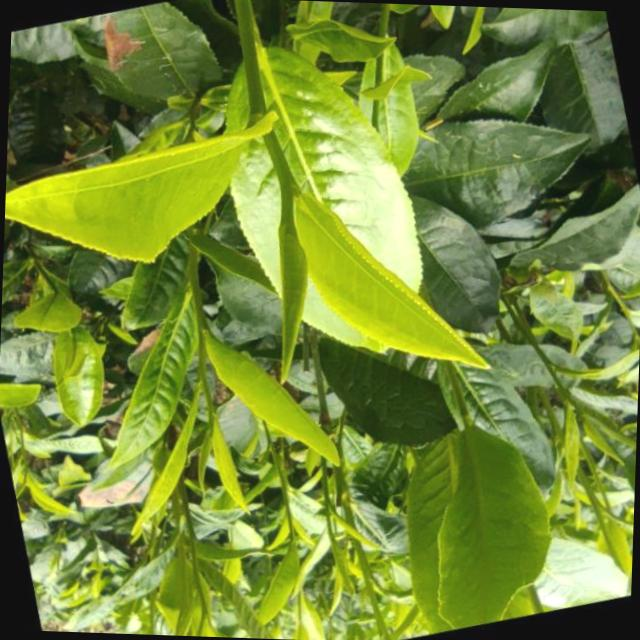Stem: (241, 46, 261, 94), (551, 374, 565, 392), (197, 344, 205, 367), (197, 591, 206, 609), (323, 487, 328, 499), (288, 526, 293, 537)
